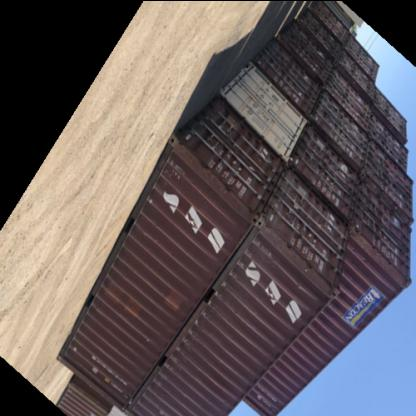Damage: (187, 152, 245, 202)
